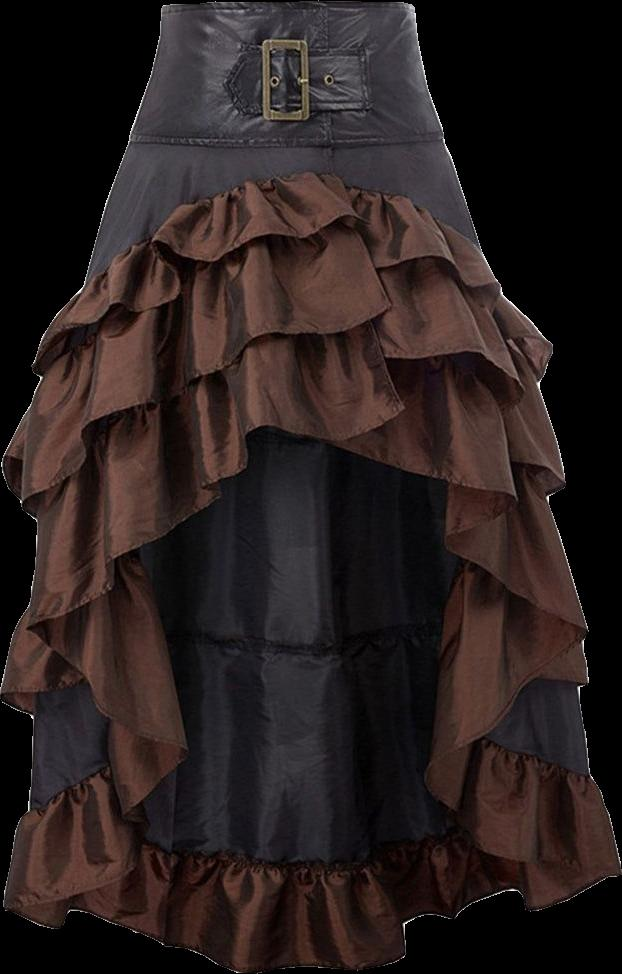Hemline: (0, 421, 600, 779), (17, 307, 567, 520), (26, 213, 546, 375)
Waistline: (70, 172, 489, 301), (125, 133, 447, 154), (156, 0, 415, 19)
